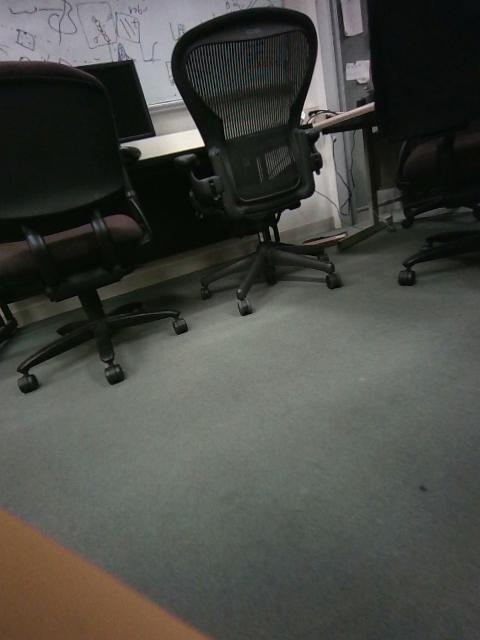block: (392, 278, 453, 369)
